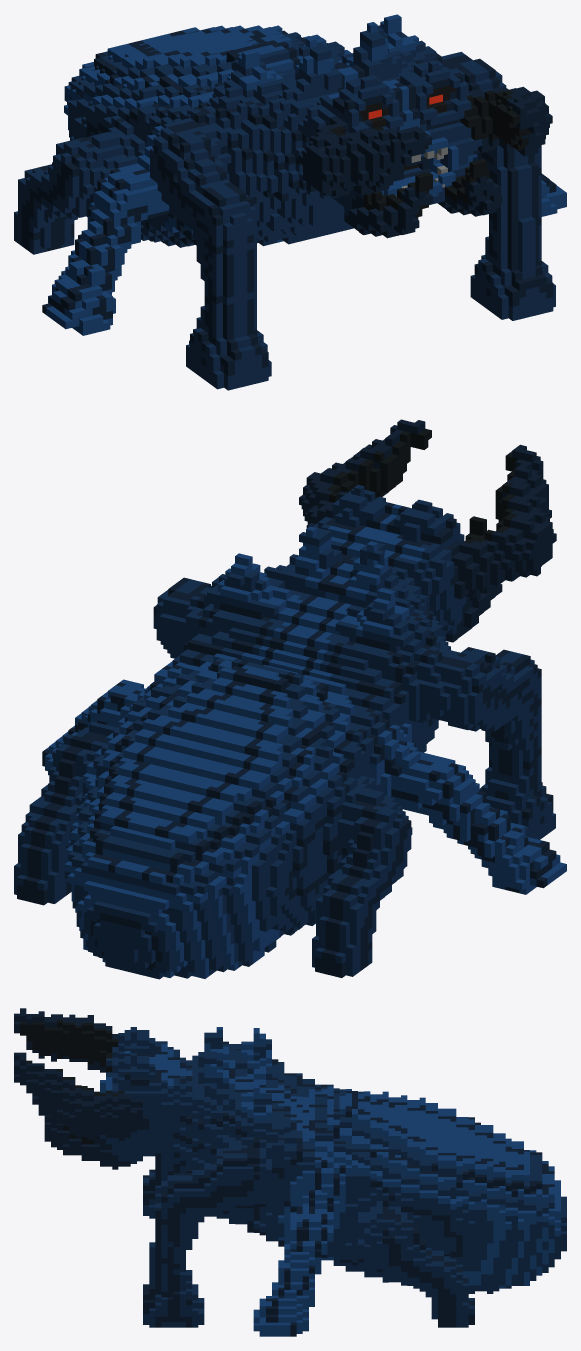
Rendered from beetle_spawn_blue_v2-4.obj.
The picture shows the model from 3 angles, top to bottom: view 1: azimuth 30°, elevation 25°; view 2: azimuth 150°, elevation 25°; view 3: azimuth 270°, elevation 25°; orthographic projection. The views are drawn at different scales.
Bounding box in the file's own units: 7.4 × 4.1 × 9.
Materials: 1 (1 with a texture image).
